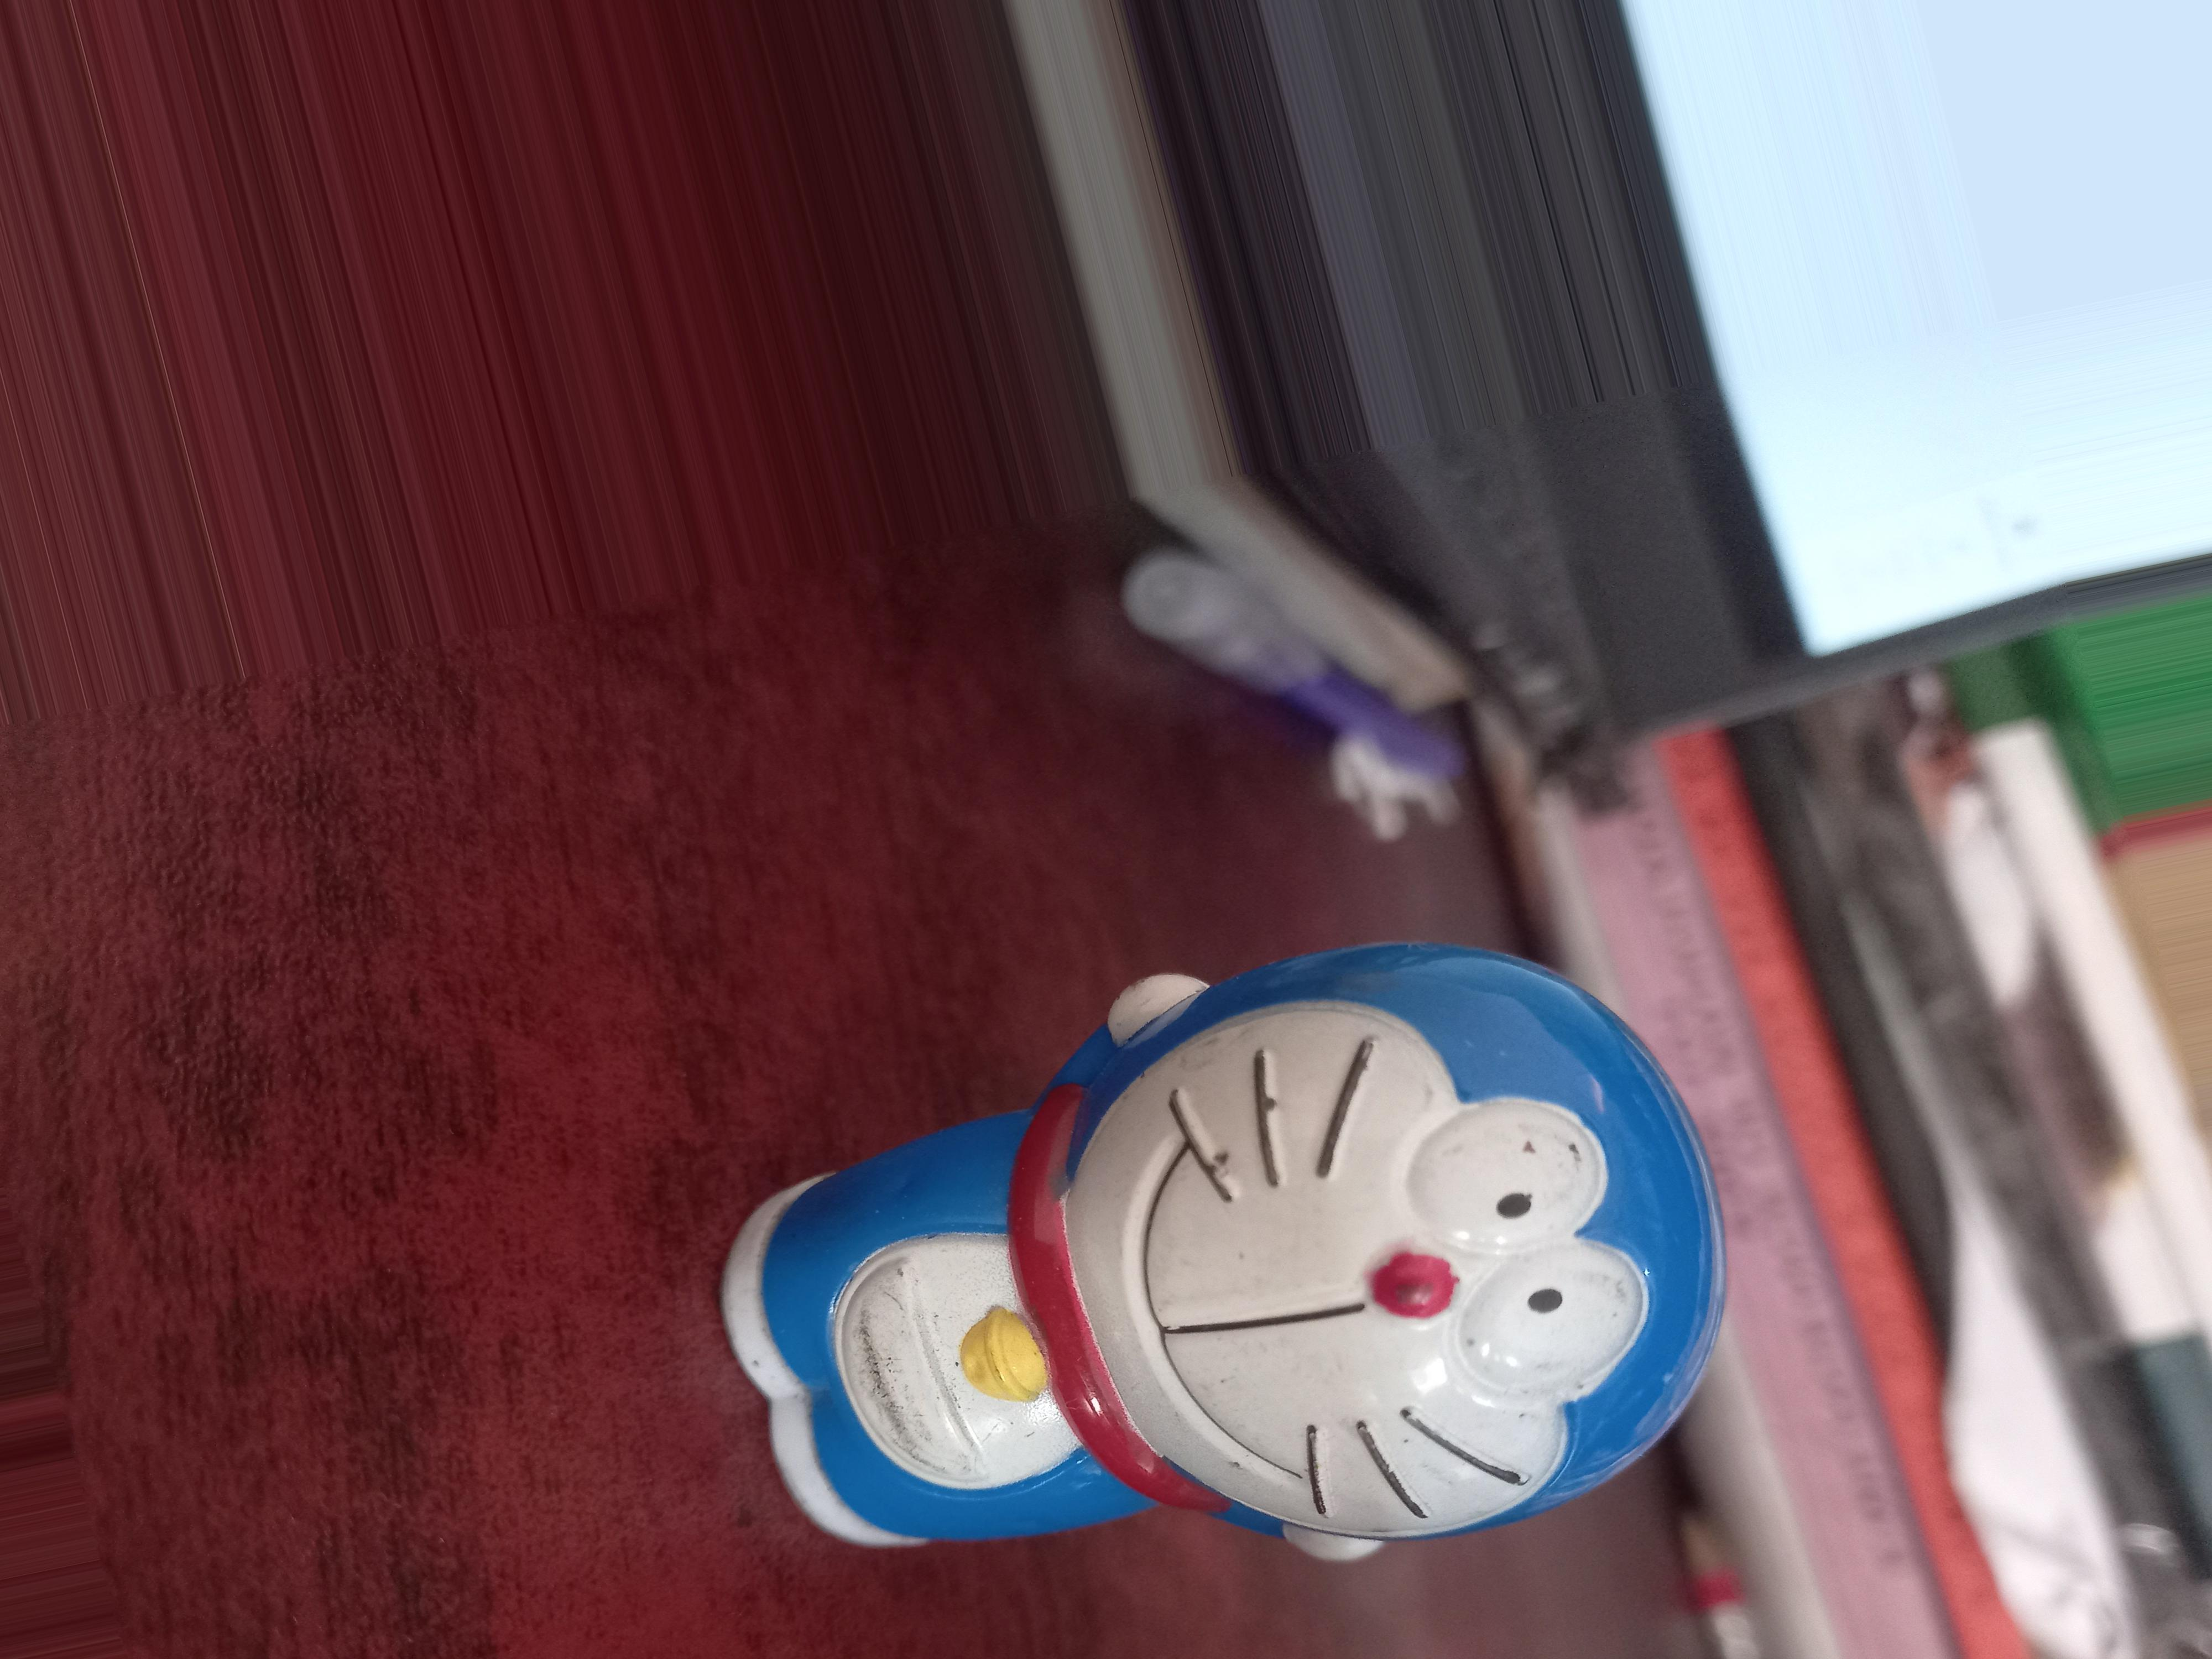doraemon: (728, 817, 2012, 1656)
